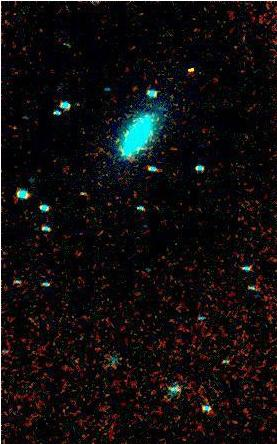star: (175, 58, 205, 88)
